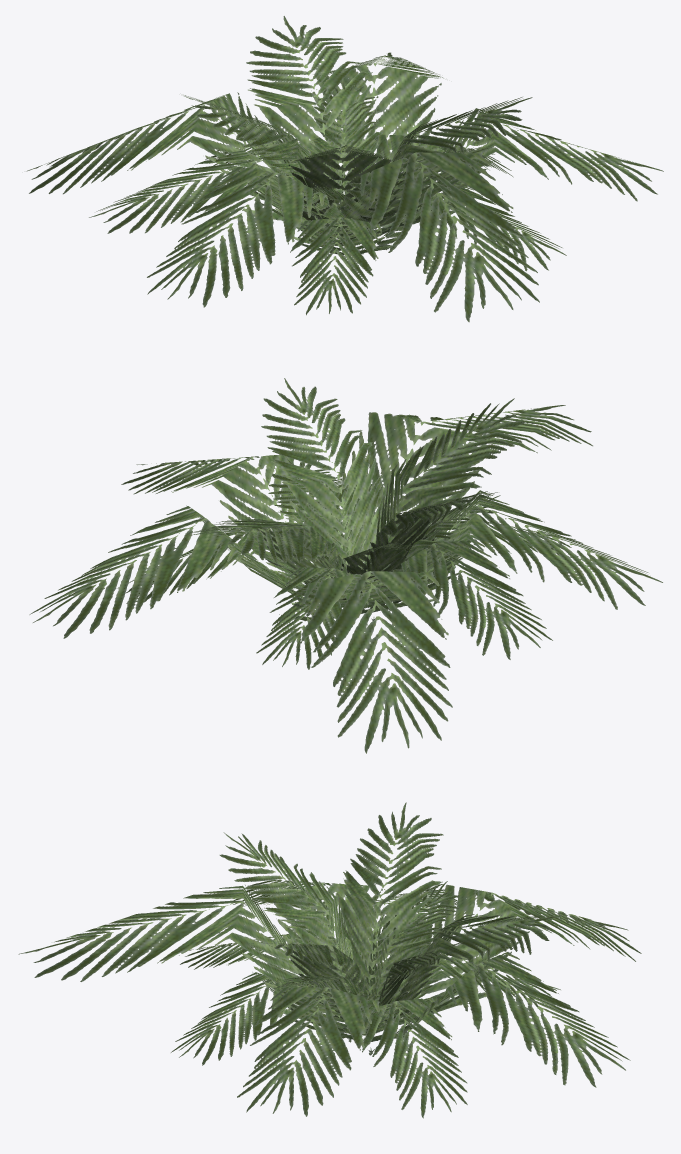
Rendered from mbushtro_1.obj.
3 views of the same model, one above another, from view 1: azimuth 30°, elevation 25°; view 2: azimuth 150°, elevation 25°; view 3: azimuth 270°, elevation 25° (orthographic). The views are drawn at different scales.
Parts seen in each view (by area): view 1: mbushtro_1; view 2: mbushtro_1; view 3: mbushtro_1.
Part boxes in pixels (left/top/right/bottom): mbushtro_1: left=26, top=16, right=663, bottom=322; mbushtro_1: left=29, top=378, right=662, bottom=753; mbushtro_1: left=18, top=802, right=641, bottom=1118.
Size of the model in its own units: 6.55 by 2.48 by 7.43.
